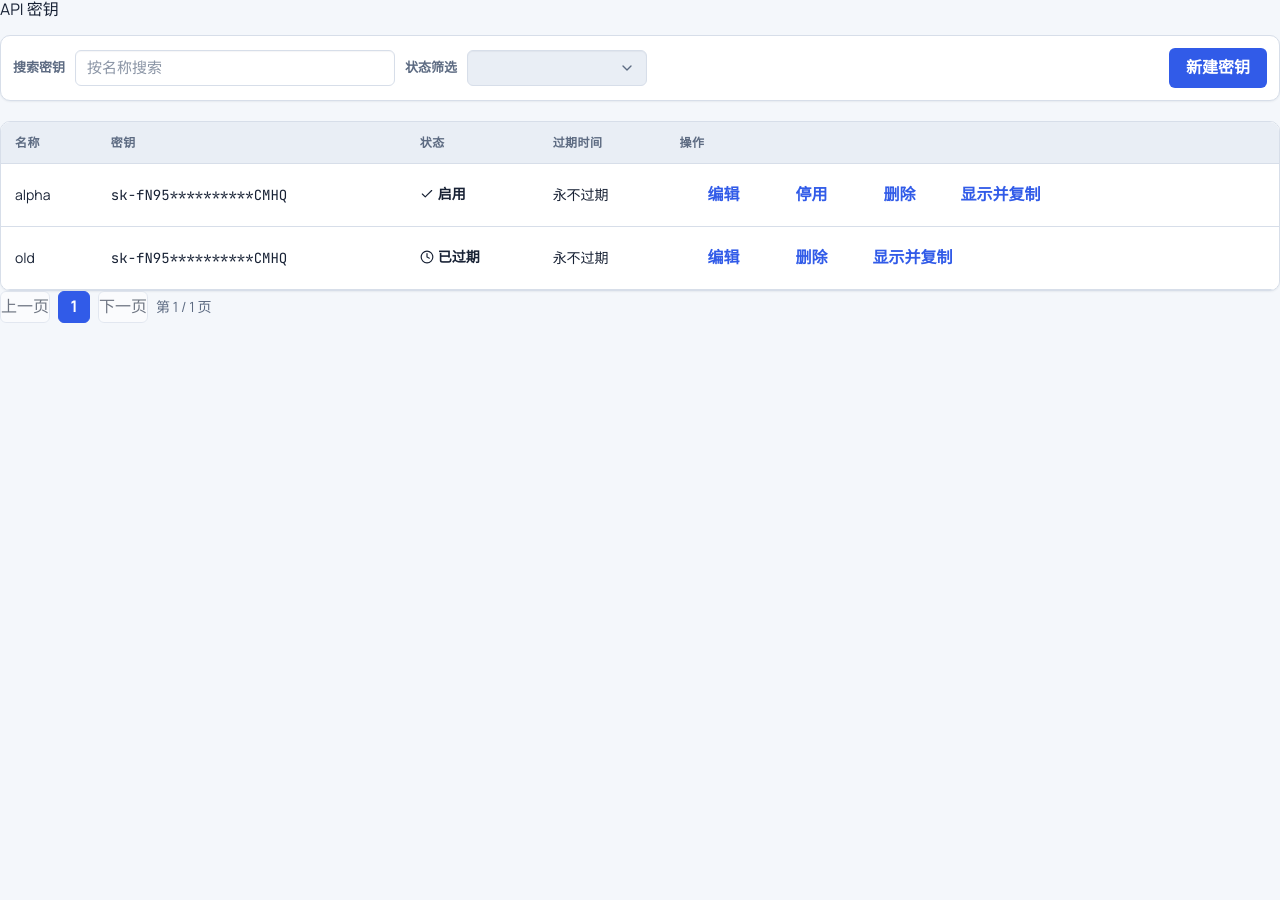
Test: API Key 启停与删除确认 › 过期密钥不提供虚假启用
The image size is (1280, 900).
Check: the text "old" is shown, box [1,227,97,290]
Step 1. Click the button with aria-label "停用 alpha" → (812, 195), box [768,175,856,215]
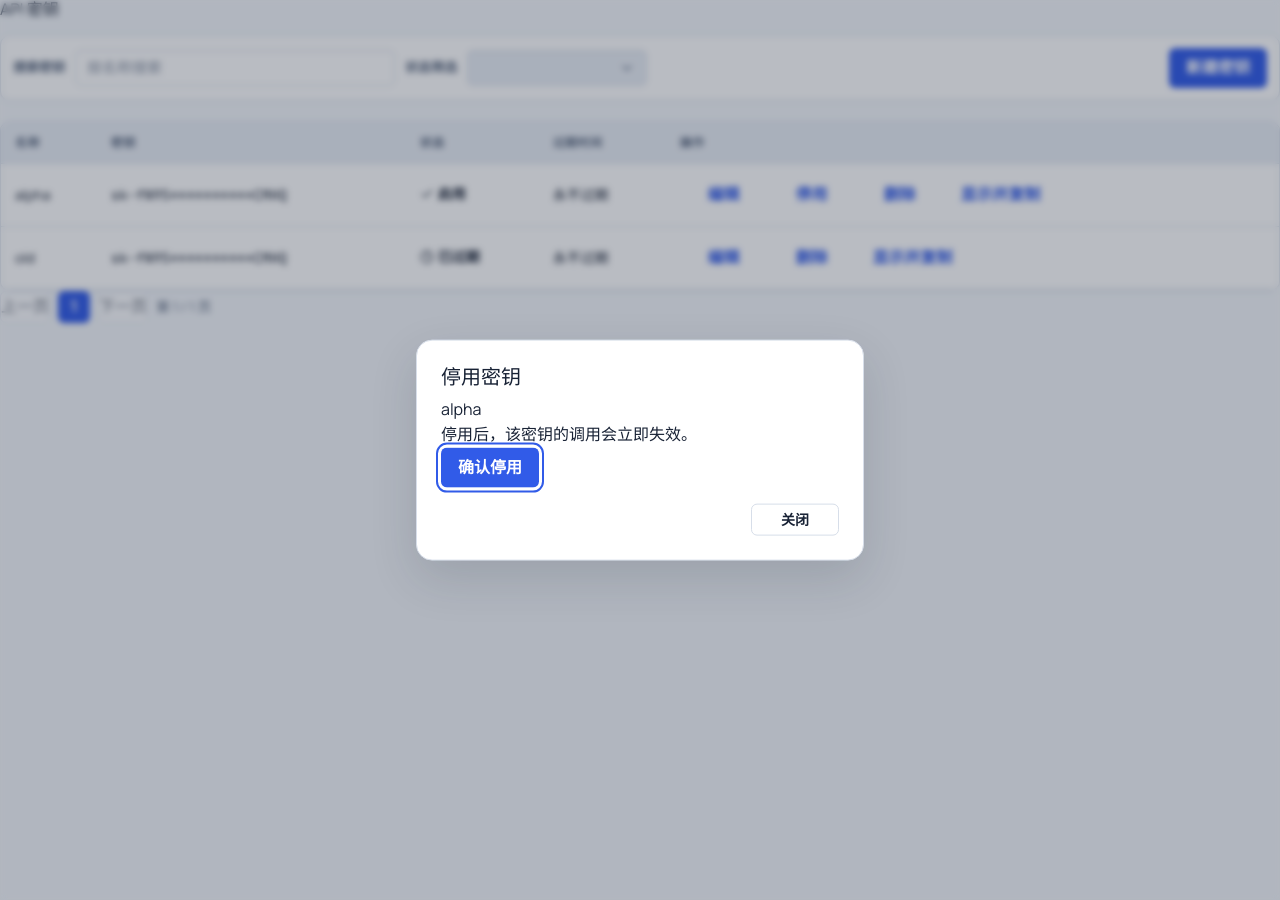
Check: the dialog is shown, box [416,340,864,560]
